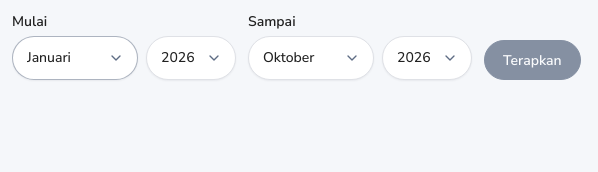
PeriodFilter (T021 / FR-11) › clamps the month onto the range bound when the year would leave it
The width and height of the screenshot is (598, 172).
Select "2025" in the dropdown named "Tahun mulai": (191,58) [146, 36, 236, 80]
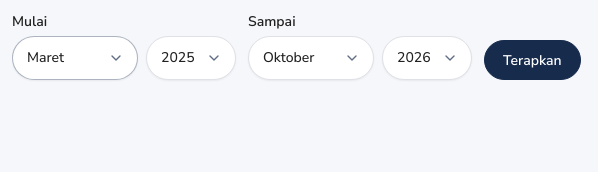
expect the dropdown named "Bulan mulai" shows "Maret": met, box [12, 36, 138, 80]
